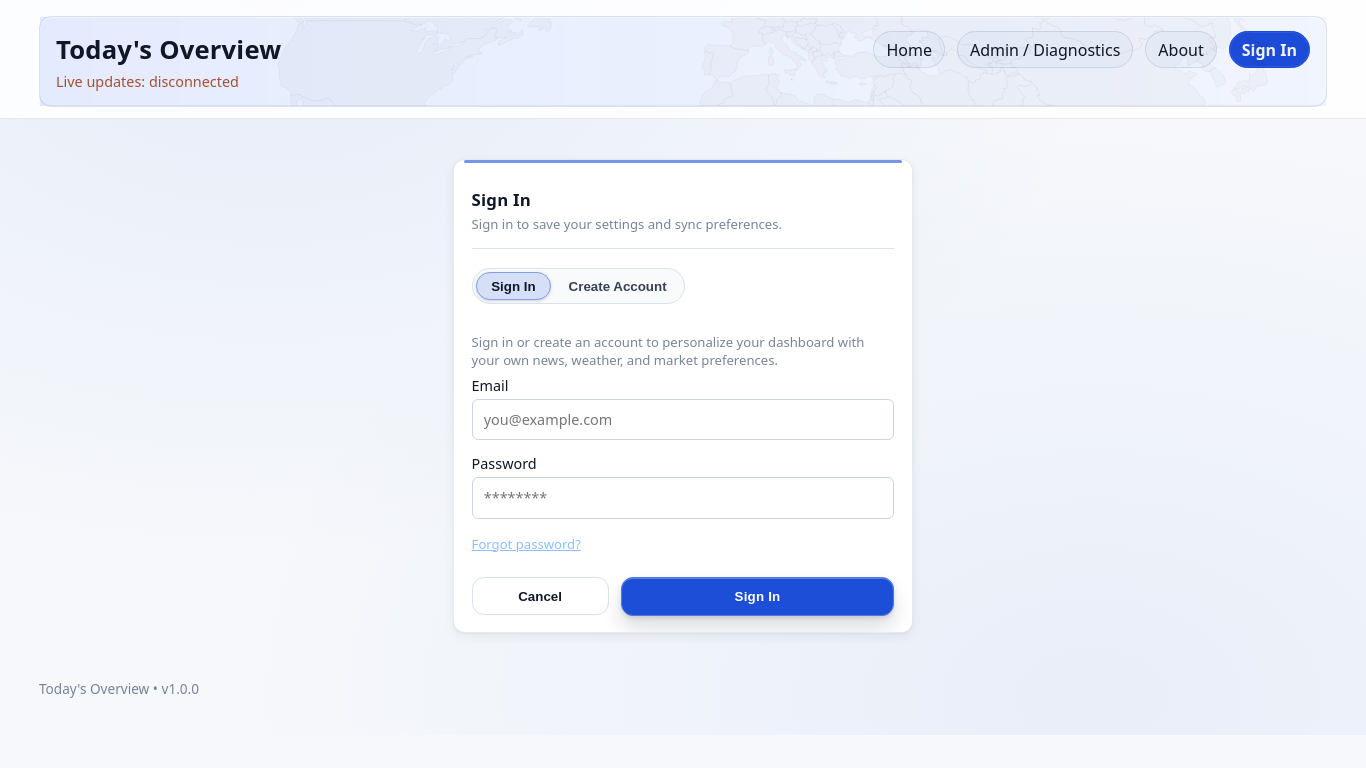
Test: App › login flow shows settings nav after successful sign-in
Type "user@example.com" into the field labelled "Email" at (683, 420), box x1=472 y1=399 x2=894 y2=440
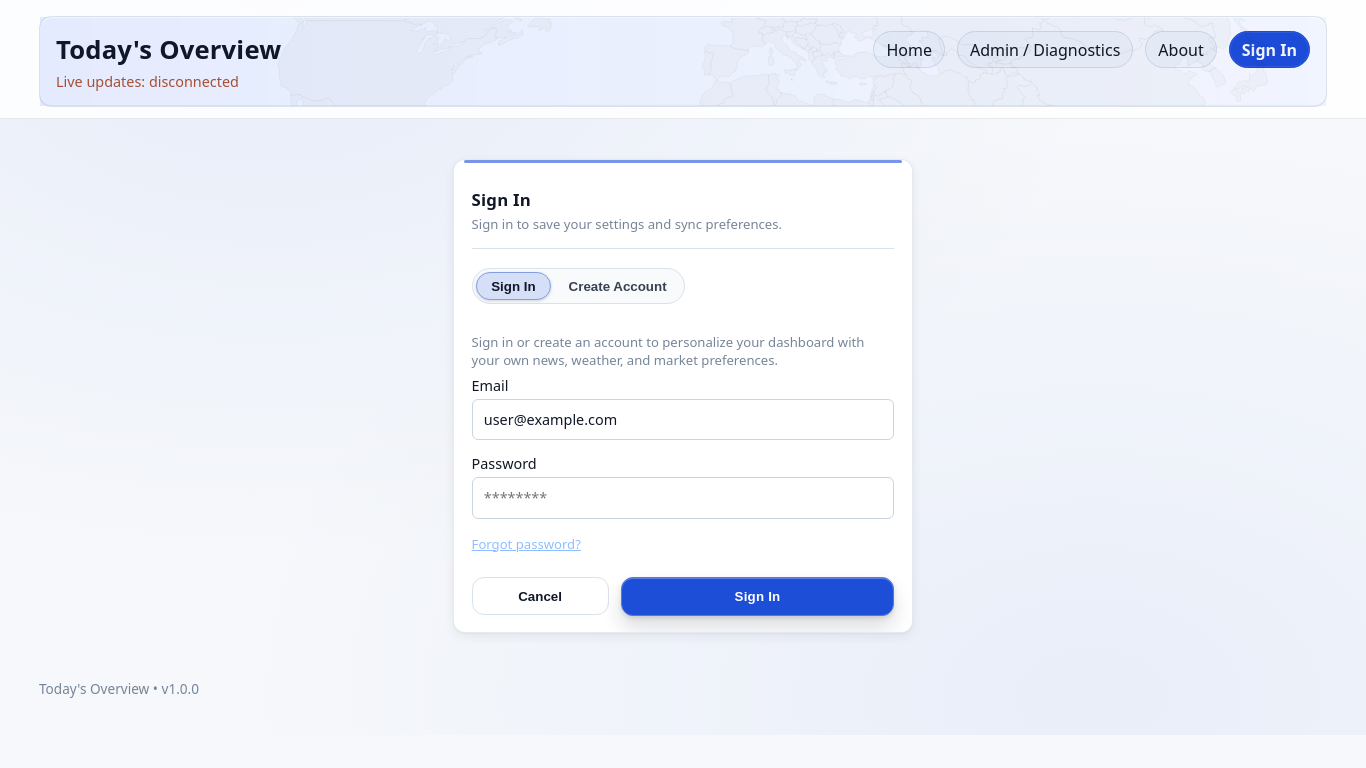
Type "hunter2-password" into the password field labelled "Password" at (683, 498), box x1=472 y1=477 x2=894 y2=519
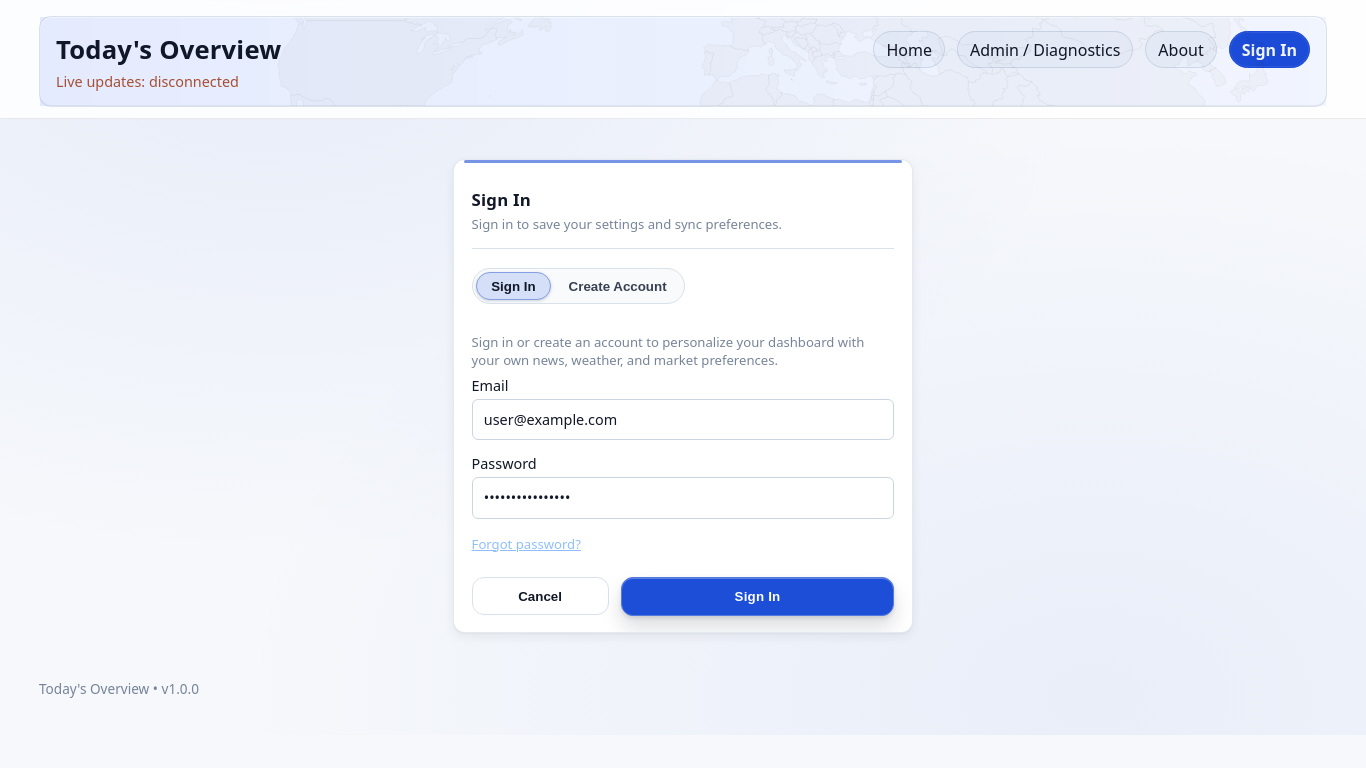
Click the button "Sign In" below "Forgot password?" at (757, 596), box x1=620 y1=577 x2=894 y2=616
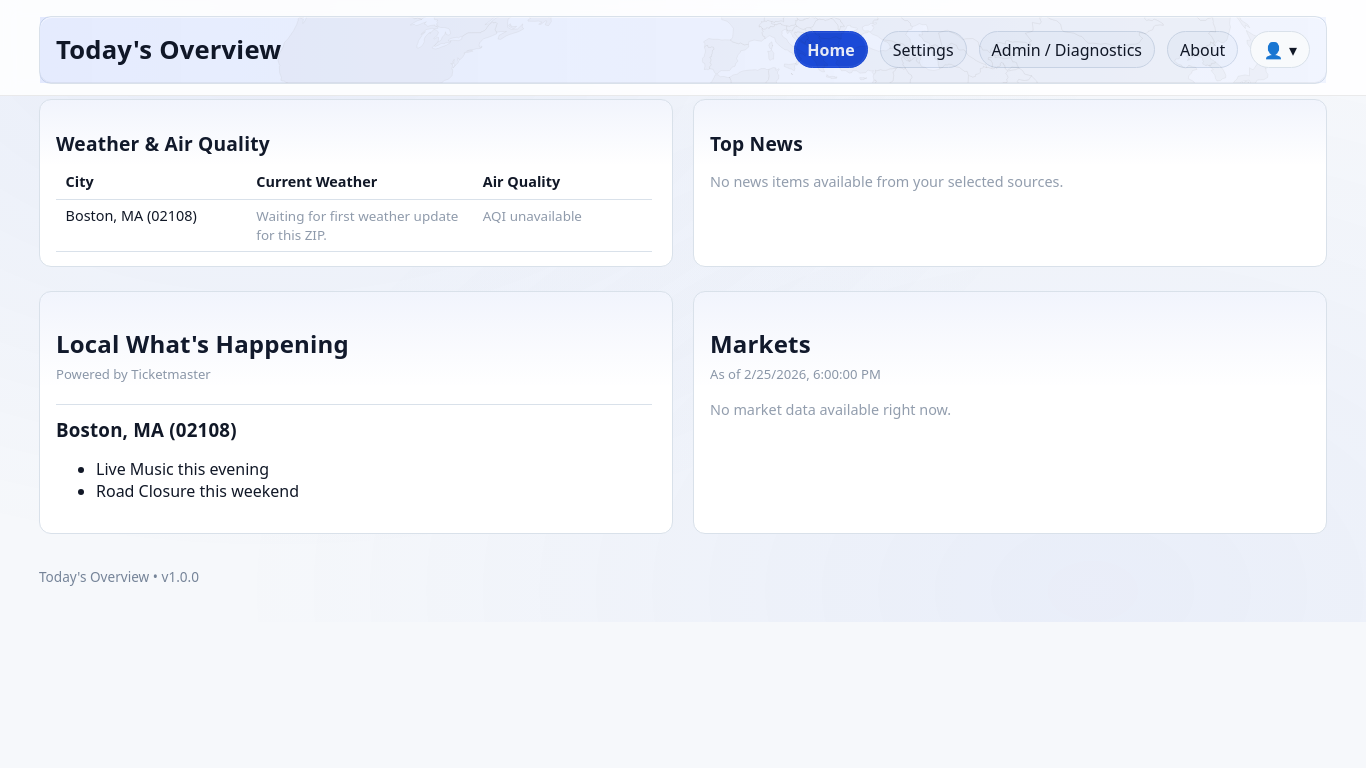
Expected: the link "Settings" is shown, x1=880 y1=31 x2=967 y2=68
